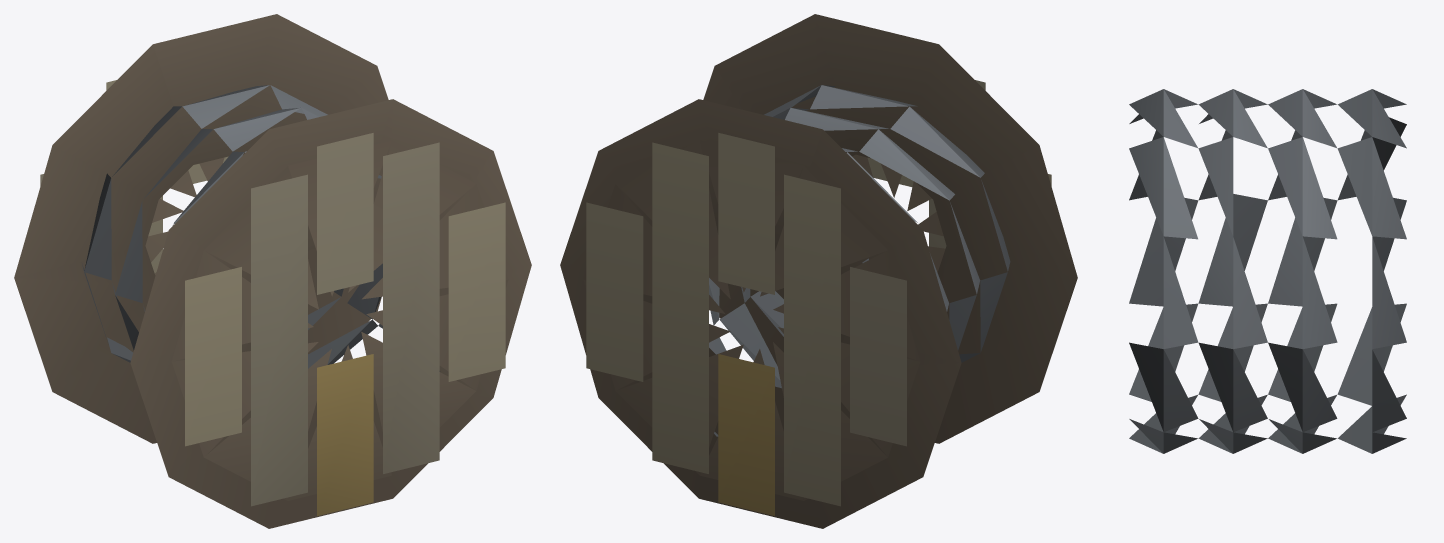
Rendered from cable.lod.glb.
3 renders of one model, left to right at view 1: azimuth 30°, elevation 25°; view 2: azimuth 150°, elevation 25°; view 3: azimuth 270°, elevation 25°, orthographic. The views are drawn at different scales.
Visible parts, largest first — view 1: cable; view 2: cable; view 3: cable.
Boxes of the visible parts, <box> form: cable: <box>14,14,531,528</box>; cable: <box>560,14,1077,528</box>; cable: <box>1129,89,1406,453</box>.
Size of the model in its own units: 1.16 by 1.1 by 0.722.
